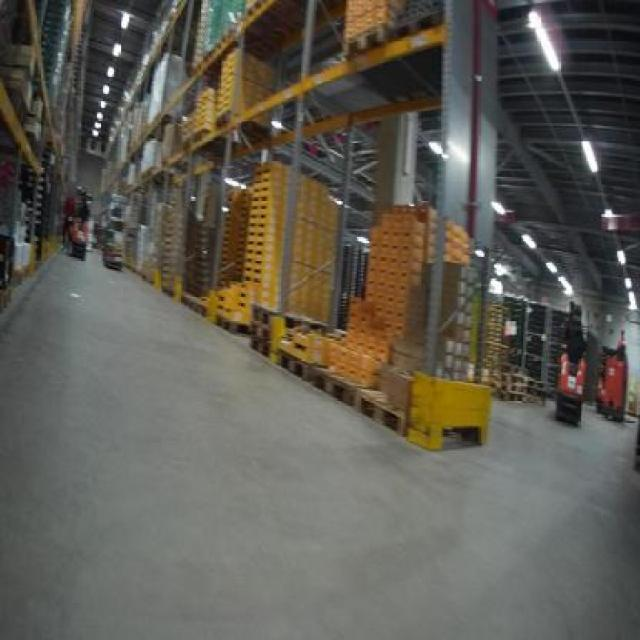pallet: (351, 380, 420, 449), (314, 362, 366, 406), (274, 347, 320, 389), (207, 307, 255, 341)
